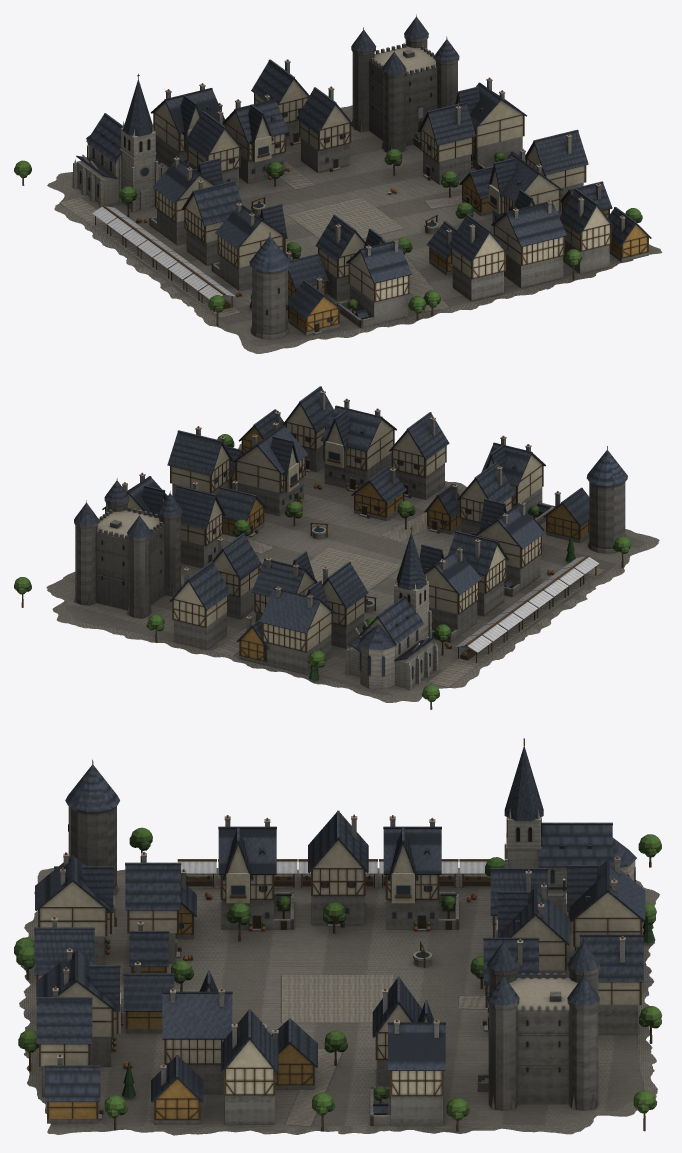
Rendered from kingdoms-town-big-b-europe.glb.
3 views of the same model, one above another, from view 1: azimuth 30°, elevation 25°; view 2: azimuth 150°, elevation 25°; view 3: azimuth 270°, elevation 25° (orthographic). The views are drawn at different scales.
Visible parts, largest first — view 1: LOD0; view 2: LOD0; view 3: LOD0.
Boxes of the visible parts, bbox=[...] form: LOD0: bbox=[14, 14, 662, 353]; LOD0: bbox=[14, 386, 659, 709]; LOD0: bbox=[14, 738, 662, 1135].
Size of what is drawn, in the model's own units: 8.06 by 2.39 by 8.12.
3 materials, 3 textured.
